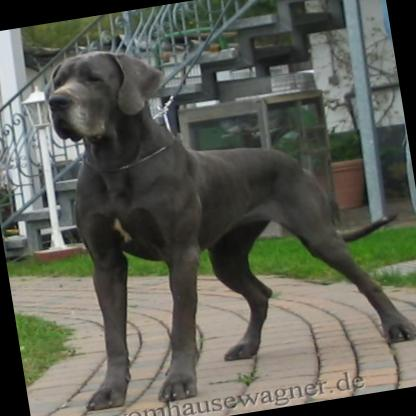Great_Dane: (30, 6, 416, 413)
